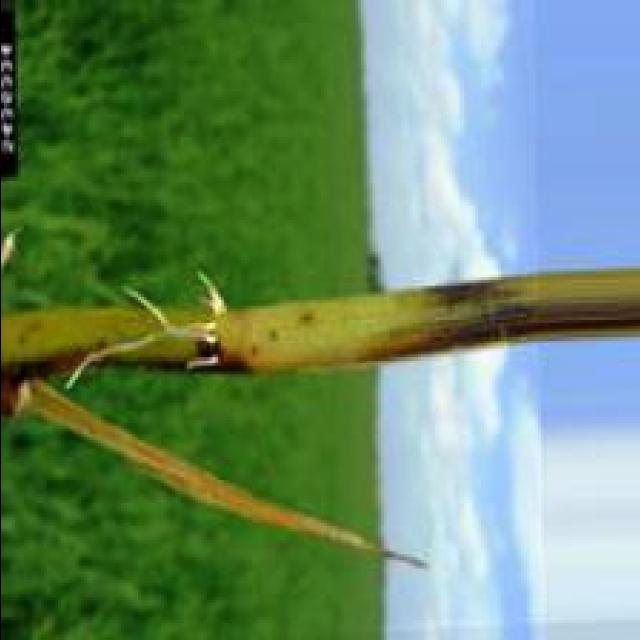Unhealthy: (32, 387, 435, 570)
